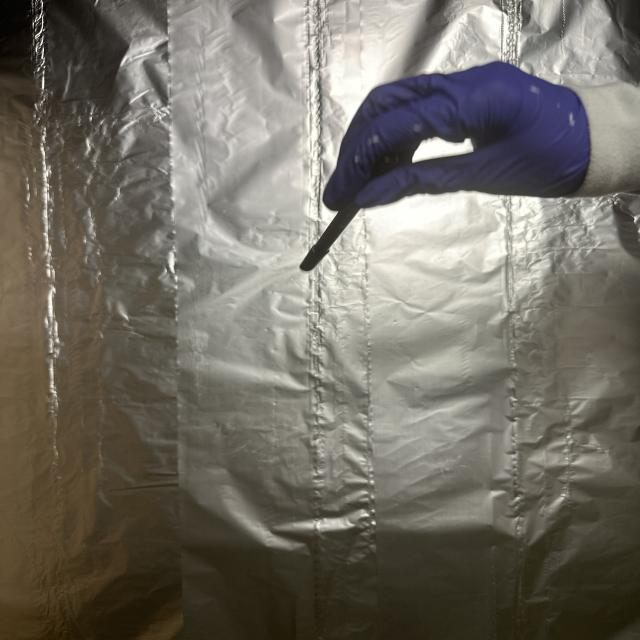gloves_contaminated: (323, 61, 591, 210)
